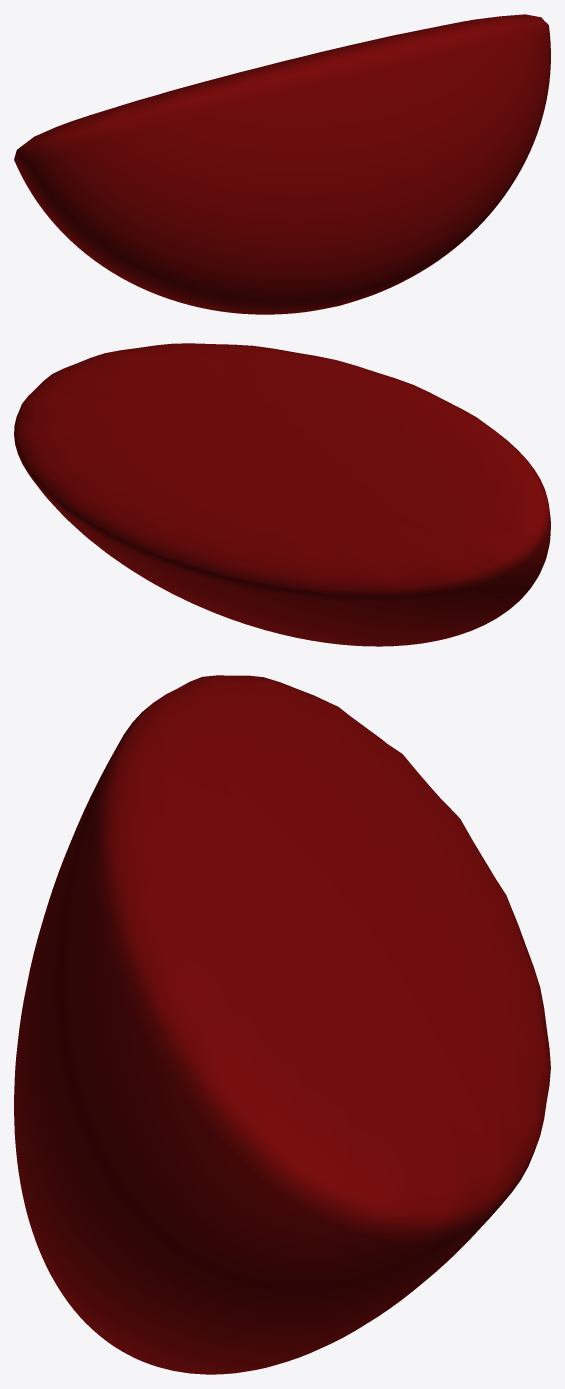
The model's file is luna-talking-3d-mouth.fbx.
3 renders of one model, top to bottom at view 1: azimuth 30°, elevation 25°; view 2: azimuth 150°, elevation 25°; view 3: azimuth 270°, elevation 25°, orthographic. The views are drawn at different scales.
Parts seen in each view (by area): view 1: mouth; view 2: mouth; view 3: mouth.
Part boxes in pixels (bbox=[...]): mouth: bbox=[14, 14, 550, 314]; mouth: bbox=[14, 343, 550, 646]; mouth: bbox=[14, 675, 550, 1374].
Bounding box in the file's own units: 0.3471 × 0.1614 × 0.1614.
